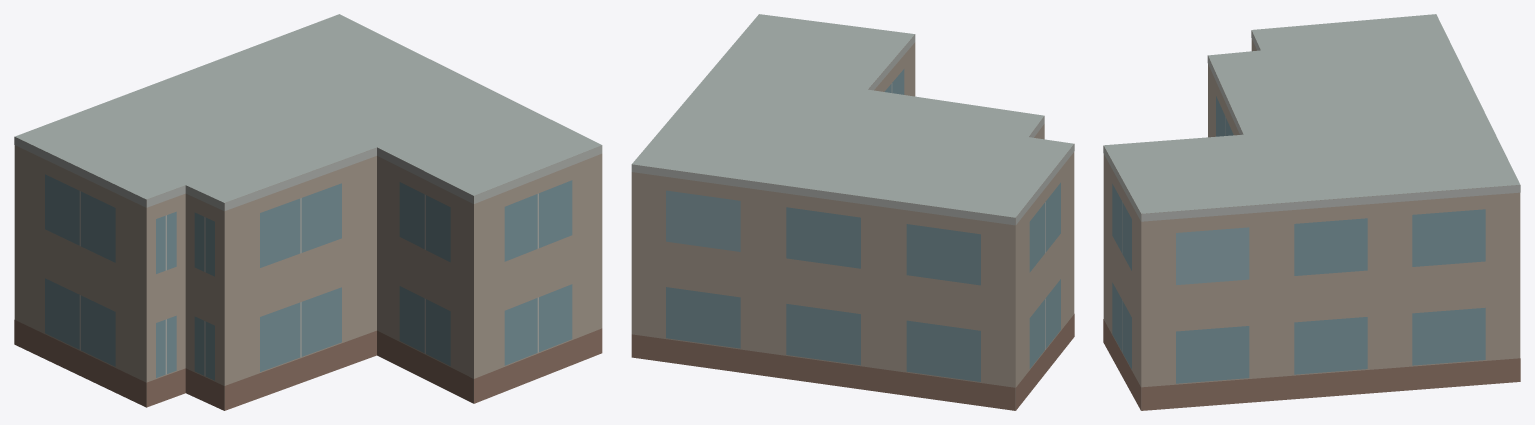
Rendered from survey-upis-32735679.glb.
3 views of the same model, side by side, from view 1: azimuth 30°, elevation 25°; view 2: azimuth 150°, elevation 25°; view 3: azimuth 270°, elevation 25° (orthographic). The views are drawn at different scales.
Parts seen in each view (by area): view 1: survey-upis-32735679.tmp; view 2: survey-upis-32735679.tmp; view 3: survey-upis-32735679.tmp.
Part boxes in pixels (x1,y1,x2,y2): survey-upis-32735679.tmp: (14, 14, 602, 410); survey-upis-32735679.tmp: (631, 14, 1074, 410); survey-upis-32735679.tmp: (1103, 14, 1520, 410).
Bounding box in the file's own units: 13.28 × 6.1 × 11.71.
